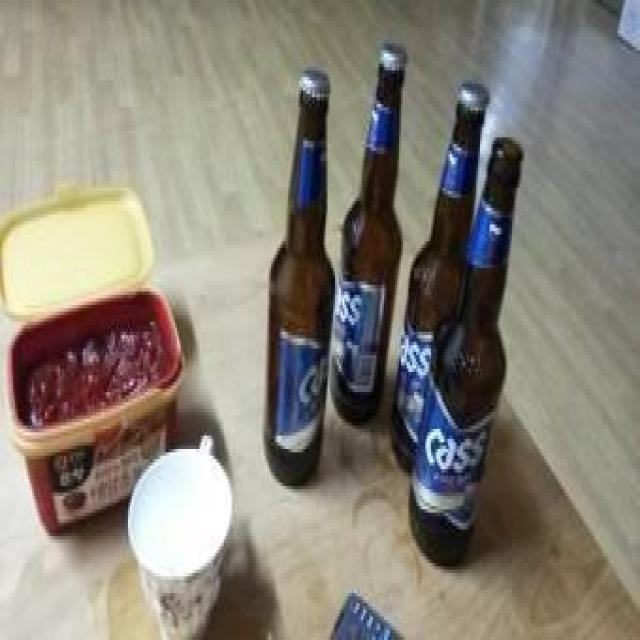beer-bottle: (407, 132, 530, 565), (255, 63, 347, 490), (412, 55, 486, 481), (339, 48, 405, 440)
